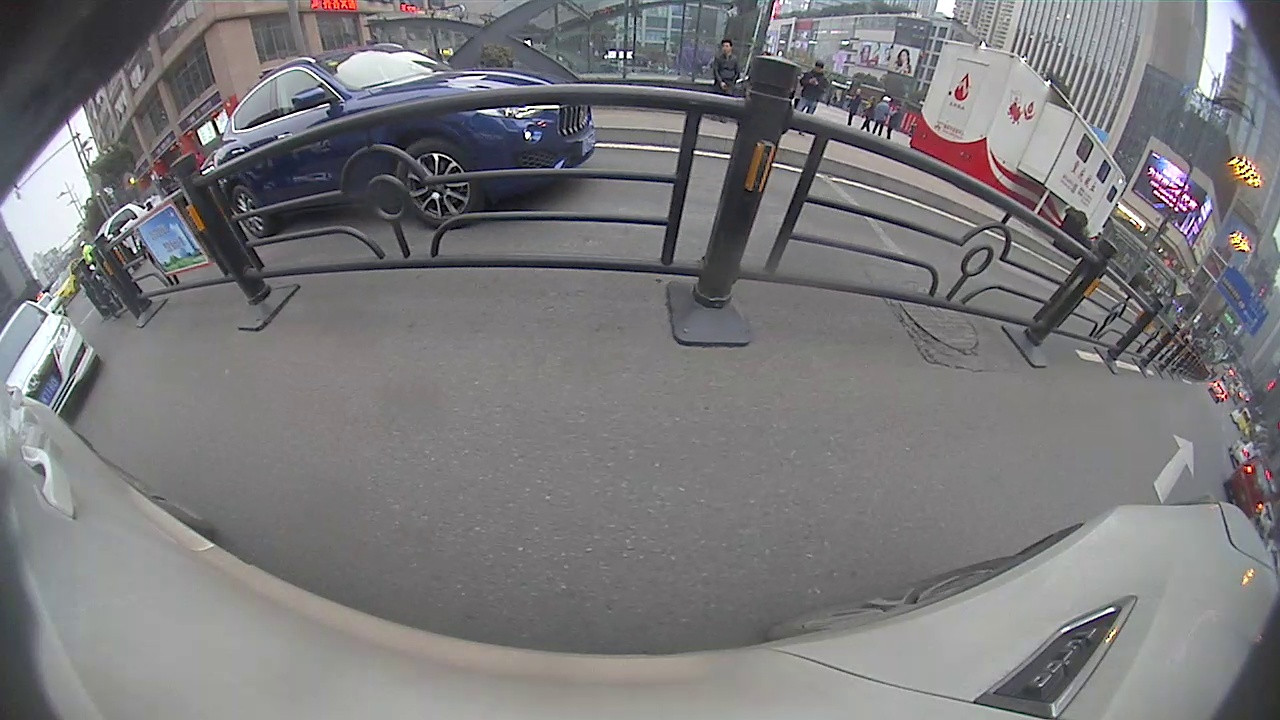car: (209, 44, 596, 239), (1, 303, 102, 433), (1224, 456, 1271, 518)
front: (398, 135, 477, 232)
rear: (223, 184, 268, 239)
